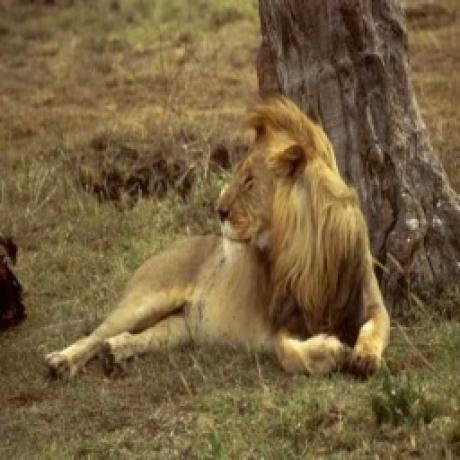Lion: (43, 95, 393, 380)
